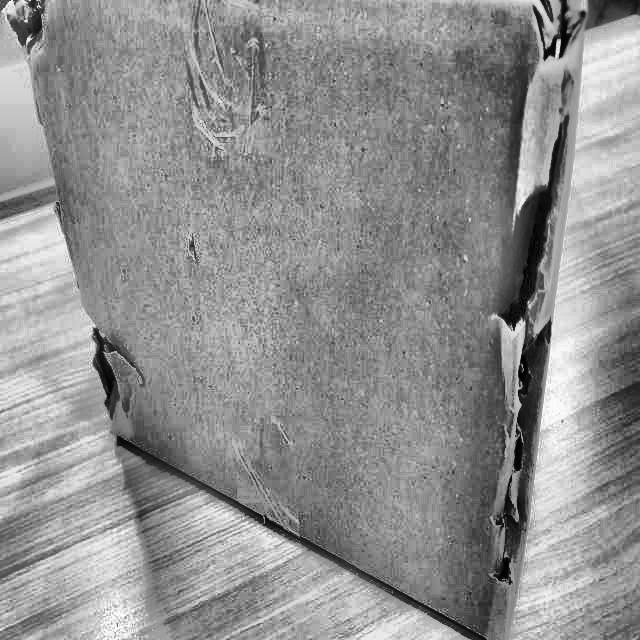box: (5, 0, 608, 639)
hole: (504, 49, 563, 357), (494, 369, 544, 586), (90, 316, 147, 439)
